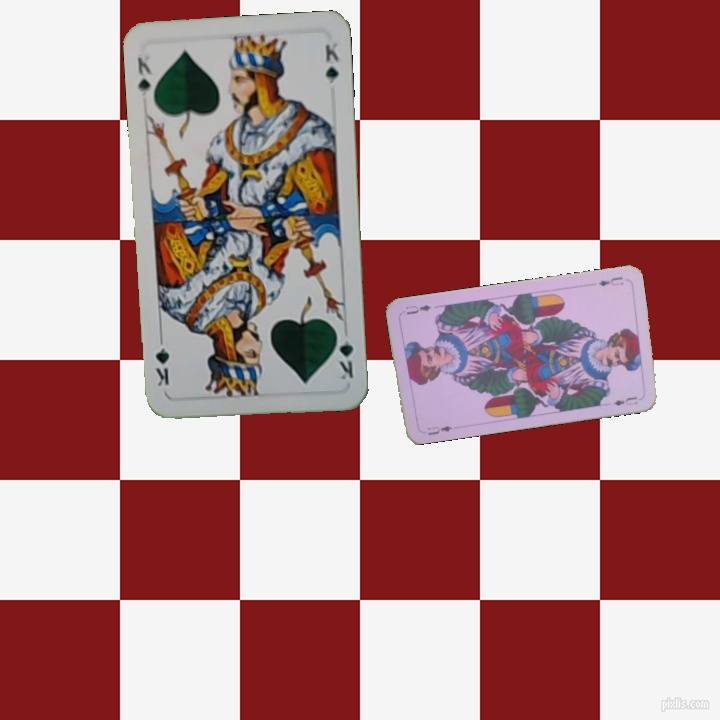EU: (423, 422, 455, 438), (594, 273, 626, 289)
GK: (332, 326, 356, 382), (133, 52, 155, 105)
